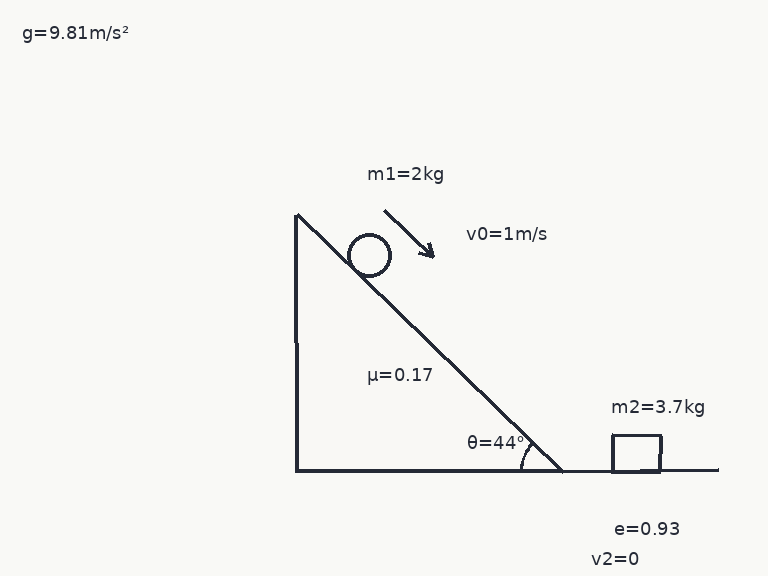ball: (345, 231, 393, 279)
block: (610, 433, 662, 473)
ramp: (294, 213, 563, 473)
